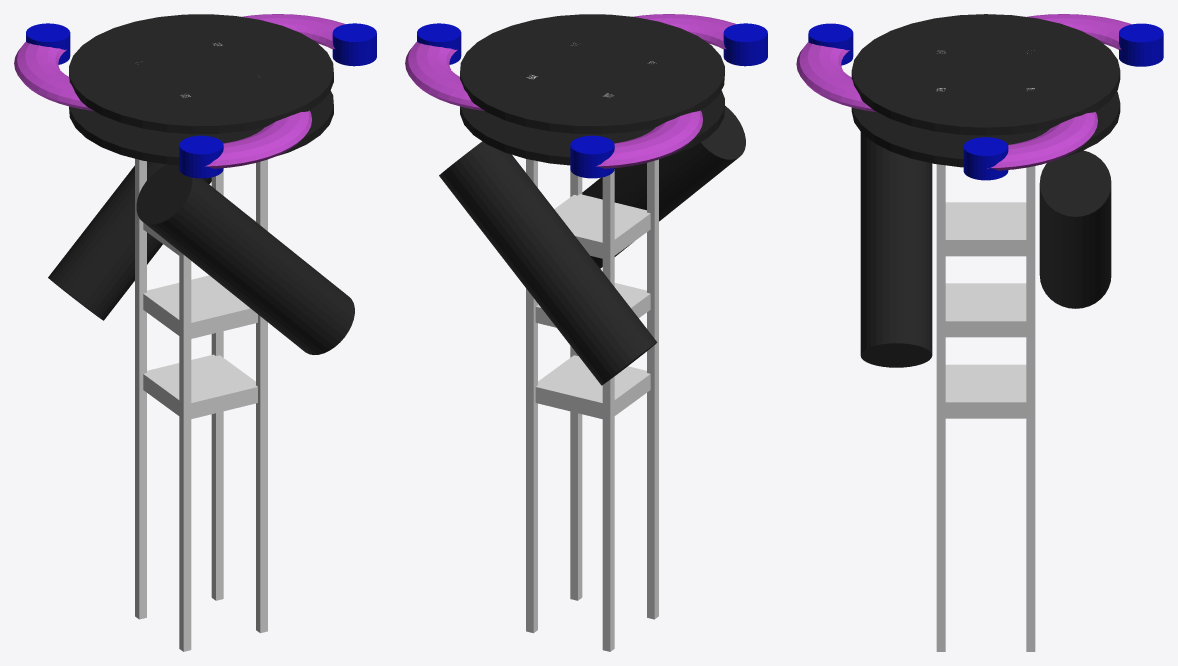
File: carriage.dae
The picture shows the model from 3 angles, left to right: view 1: azimuth 30°, elevation 25°; view 2: azimuth 150°, elevation 25°; view 3: azimuth 270°, elevation 25°; orthographic projection.
Visible parts, largest first — view 1: Cylinder_003, Cylinder_001, Cylinder_002, Cube_003, Cube_002, Cylinder_004, Cube_005, Cube, Cube_006, Cube_001, Torus_001, Torus (+4 smaller); view 2: Cylinder_003, Cylinder_002, Cylinder_001, Cube_003, Cube_002, Cylinder_004, Cube_001, Cube_005, Cube_004, Torus, Cube, Torus_002 (+5 smaller); view 3: Cylinder_003, Cylinder_001, Cylinder_002, Cylinder_004, Cube, Cube_001, Cube_006, Cube_005, Cube_004, Torus_002, Torus_001, Cylinder_006 (+3 smaller).
Part boxes in pixels (x1,y1,x2,y2): Cylinder_003: (69,14,333,134); Cylinder_001: (136,164,354,354); Cylinder_002: (48,161,211,320); Cube_003: (179,94,191,651); Cube_002: (135,62,146,619); Cylinder_004: (69,90,333,165); Cube_005: (143,354,257,418); Cube: (256,159,267,633); Cube_006: (143,275,257,338); Cube_001: (211,43,223,600); Torus_001: (205,110,311,168); Torus: (14,42,93,110); Cylinder_003: (460,14,724,134); Cylinder_002: (439,141,657,385); Cylinder_001: (582,106,745,268); Cube_003: (647,61,658,619); Cube_002: (602,93,614,651); Cylinder_004: (460,90,724,165); Cube_001: (526,75,537,633); Cube_005: (535,355,650,418); Cube_004: (554,194,650,258); Torus: (596,110,702,168); Cube: (570,42,582,600); Torus_002: (405,42,484,110); Cylinder_003: (851,14,1120,135); Cylinder_001: (860,132,932,367); Cylinder_002: (1039,150,1111,308); Cylinder_004: (851,91,1120,167); Cube: (936,88,945,651); Cube_001: (1026,88,1035,651); Cube_006: (945,283,1026,337); Cube_005: (945,364,1026,418); Cube_004: (945,202,1026,256); Torus_002: (987,112,1097,170); Torus_001: (796,42,876,111); Cylinder_006: (1119,23,1163,66).
Bounding box in the file's own units: 0.4 × 0.4098 × 0.69.
